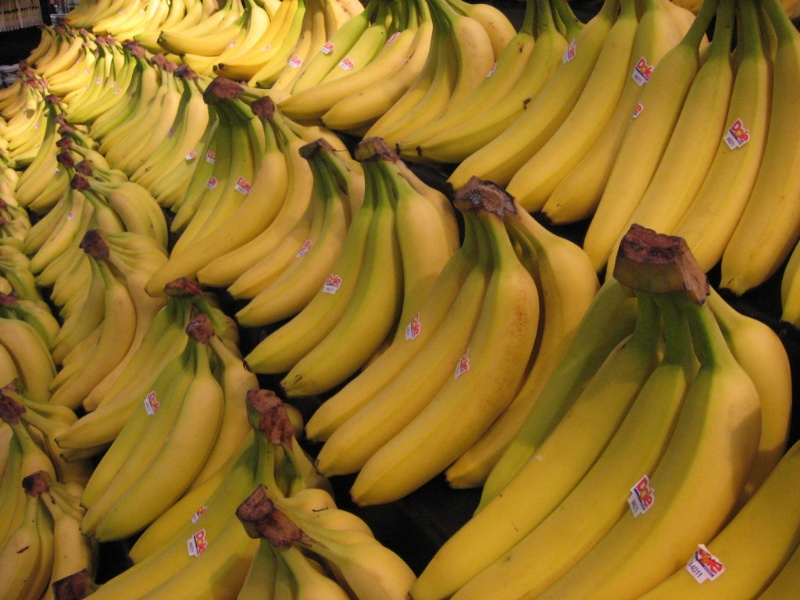banana: (419, 216, 790, 600), (137, 85, 326, 311), (77, 316, 254, 547)
